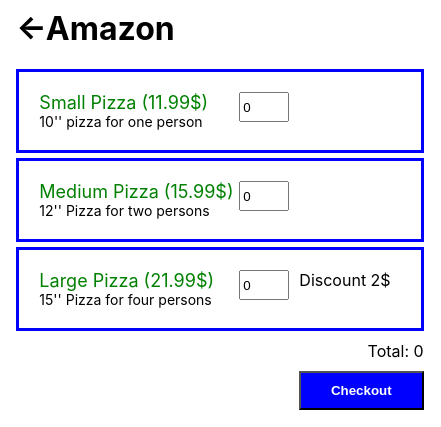
Checkout page › Amazon customer checkout
In the number field with id "Medium Pizza": {"x": 264, "y": 196} x1=239 y1=181 x2=289 y2=211, type "3"
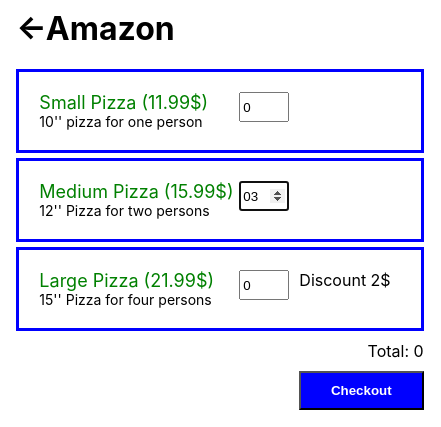
In the number field with id "Large Pizza": {"x": 264, "y": 285} x1=239 y1=270 x2=289 y2=300, type "1"
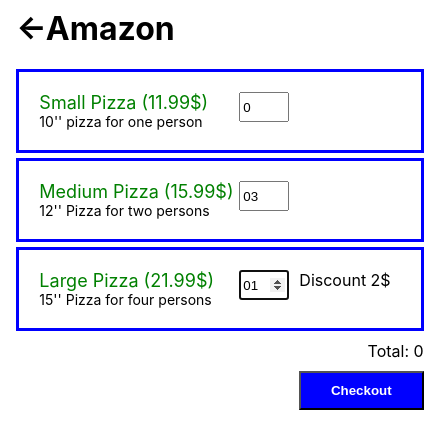
Click the button with test id "checkout-button": {"x": 362, "y": 391} x1=299 y1=371 x2=424 y2=410
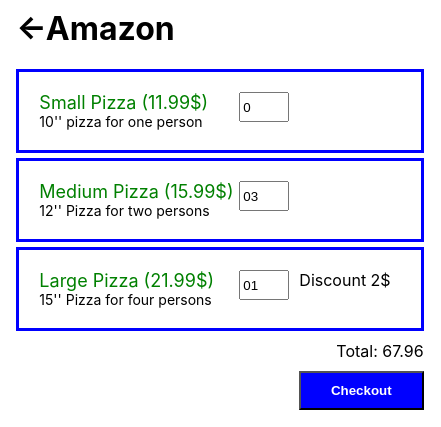
Expected: the text with test id "total-amount" reads "67.96", x1=382 y1=341 x2=423 y2=361
